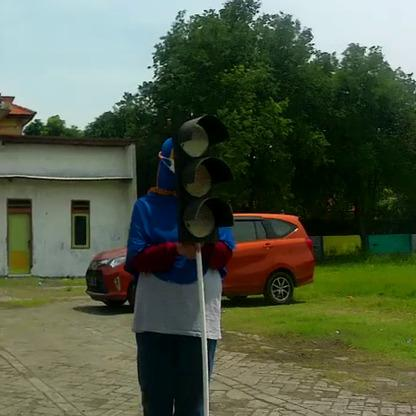yellow: (171, 115, 234, 241)
